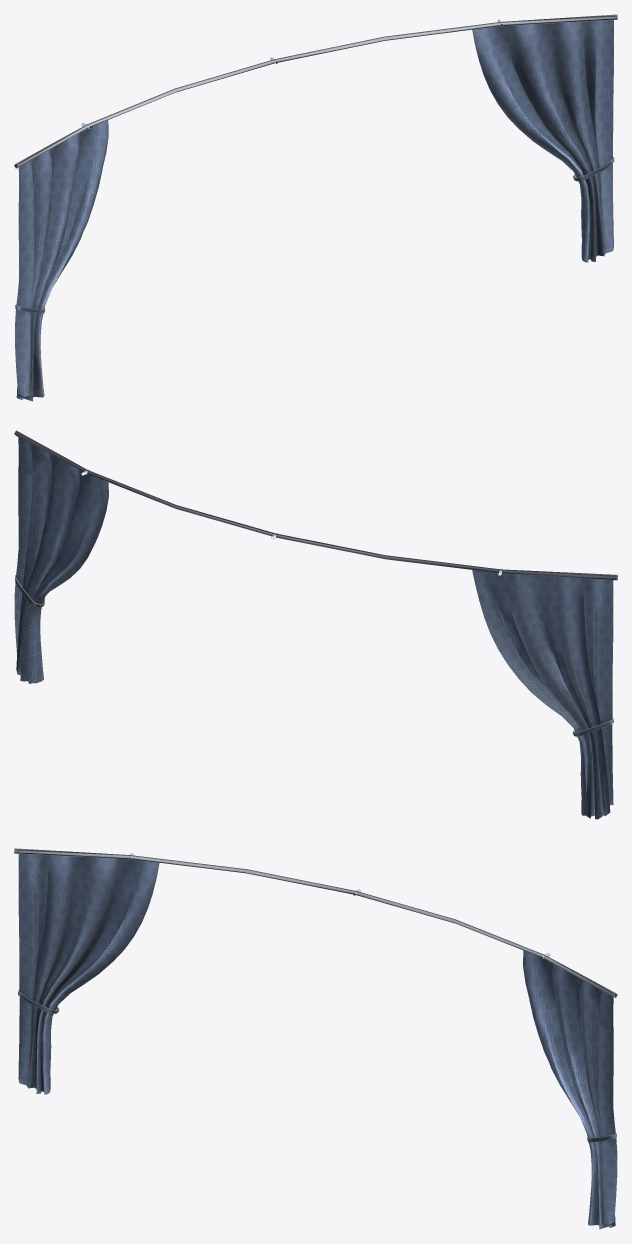
The model's file is obj_curtains.gltf.
3 views of the same model, one above another, from view 1: azimuth 30°, elevation 25°; view 2: azimuth 150°, elevation 25°; view 3: azimuth 330°, elevation 25° (orthographic).
Visible parts, largest first — view 1: obj_curtains; view 2: obj_curtains; view 3: obj_curtains.
Part boxes in pixels (x1=…): obj_curtains: x1=14, y1=14, x2=617, y2=401; obj_curtains: x1=14, y1=430, x2=617, y2=819; obj_curtains: x1=14, y1=848, x2=617, y2=1229.
Size of what is drawn, in the model's own units: 9.92 by 3.84 by 1.35.
1 material, 1 textured.
